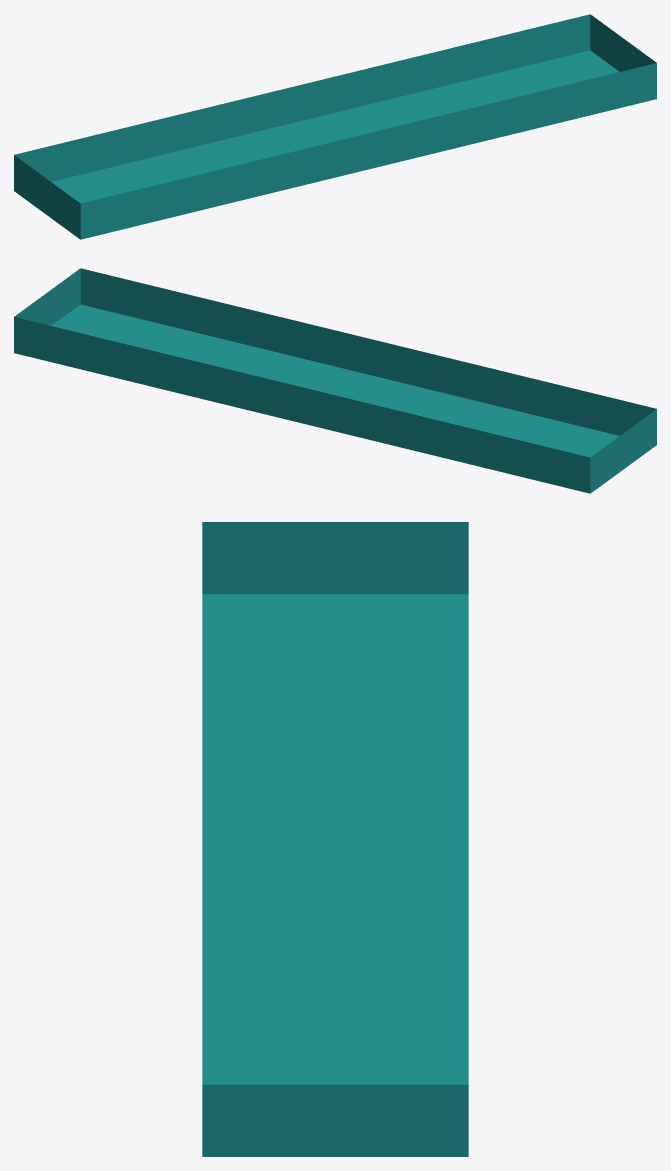
Rendered from original-25.obj.
The picture shows the model from 3 angles, top to bottom: view 1: azimuth 30°, elevation 25°; view 2: azimuth 150°, elevation 25°; view 3: azimuth 270°, elevation 25°; orthographic projection. The views are drawn at different scales.
Parts seen in each view (by area): view 1: #ID144; view 2: #ID144; view 3: #ID144.
Boxes of the visible parts, x1,y1,x2,y2 form: #ID144: [14, 14, 656, 239]; #ID144: [14, 268, 656, 493]; #ID144: [202, 522, 468, 1156].
Size of the model in its own units: 0.0415 by 0.00249 by 0.0083.
